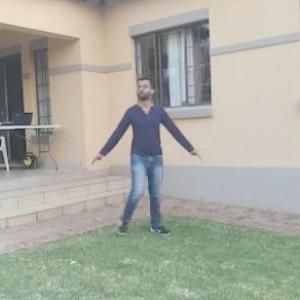land: (98, 83, 187, 225)
